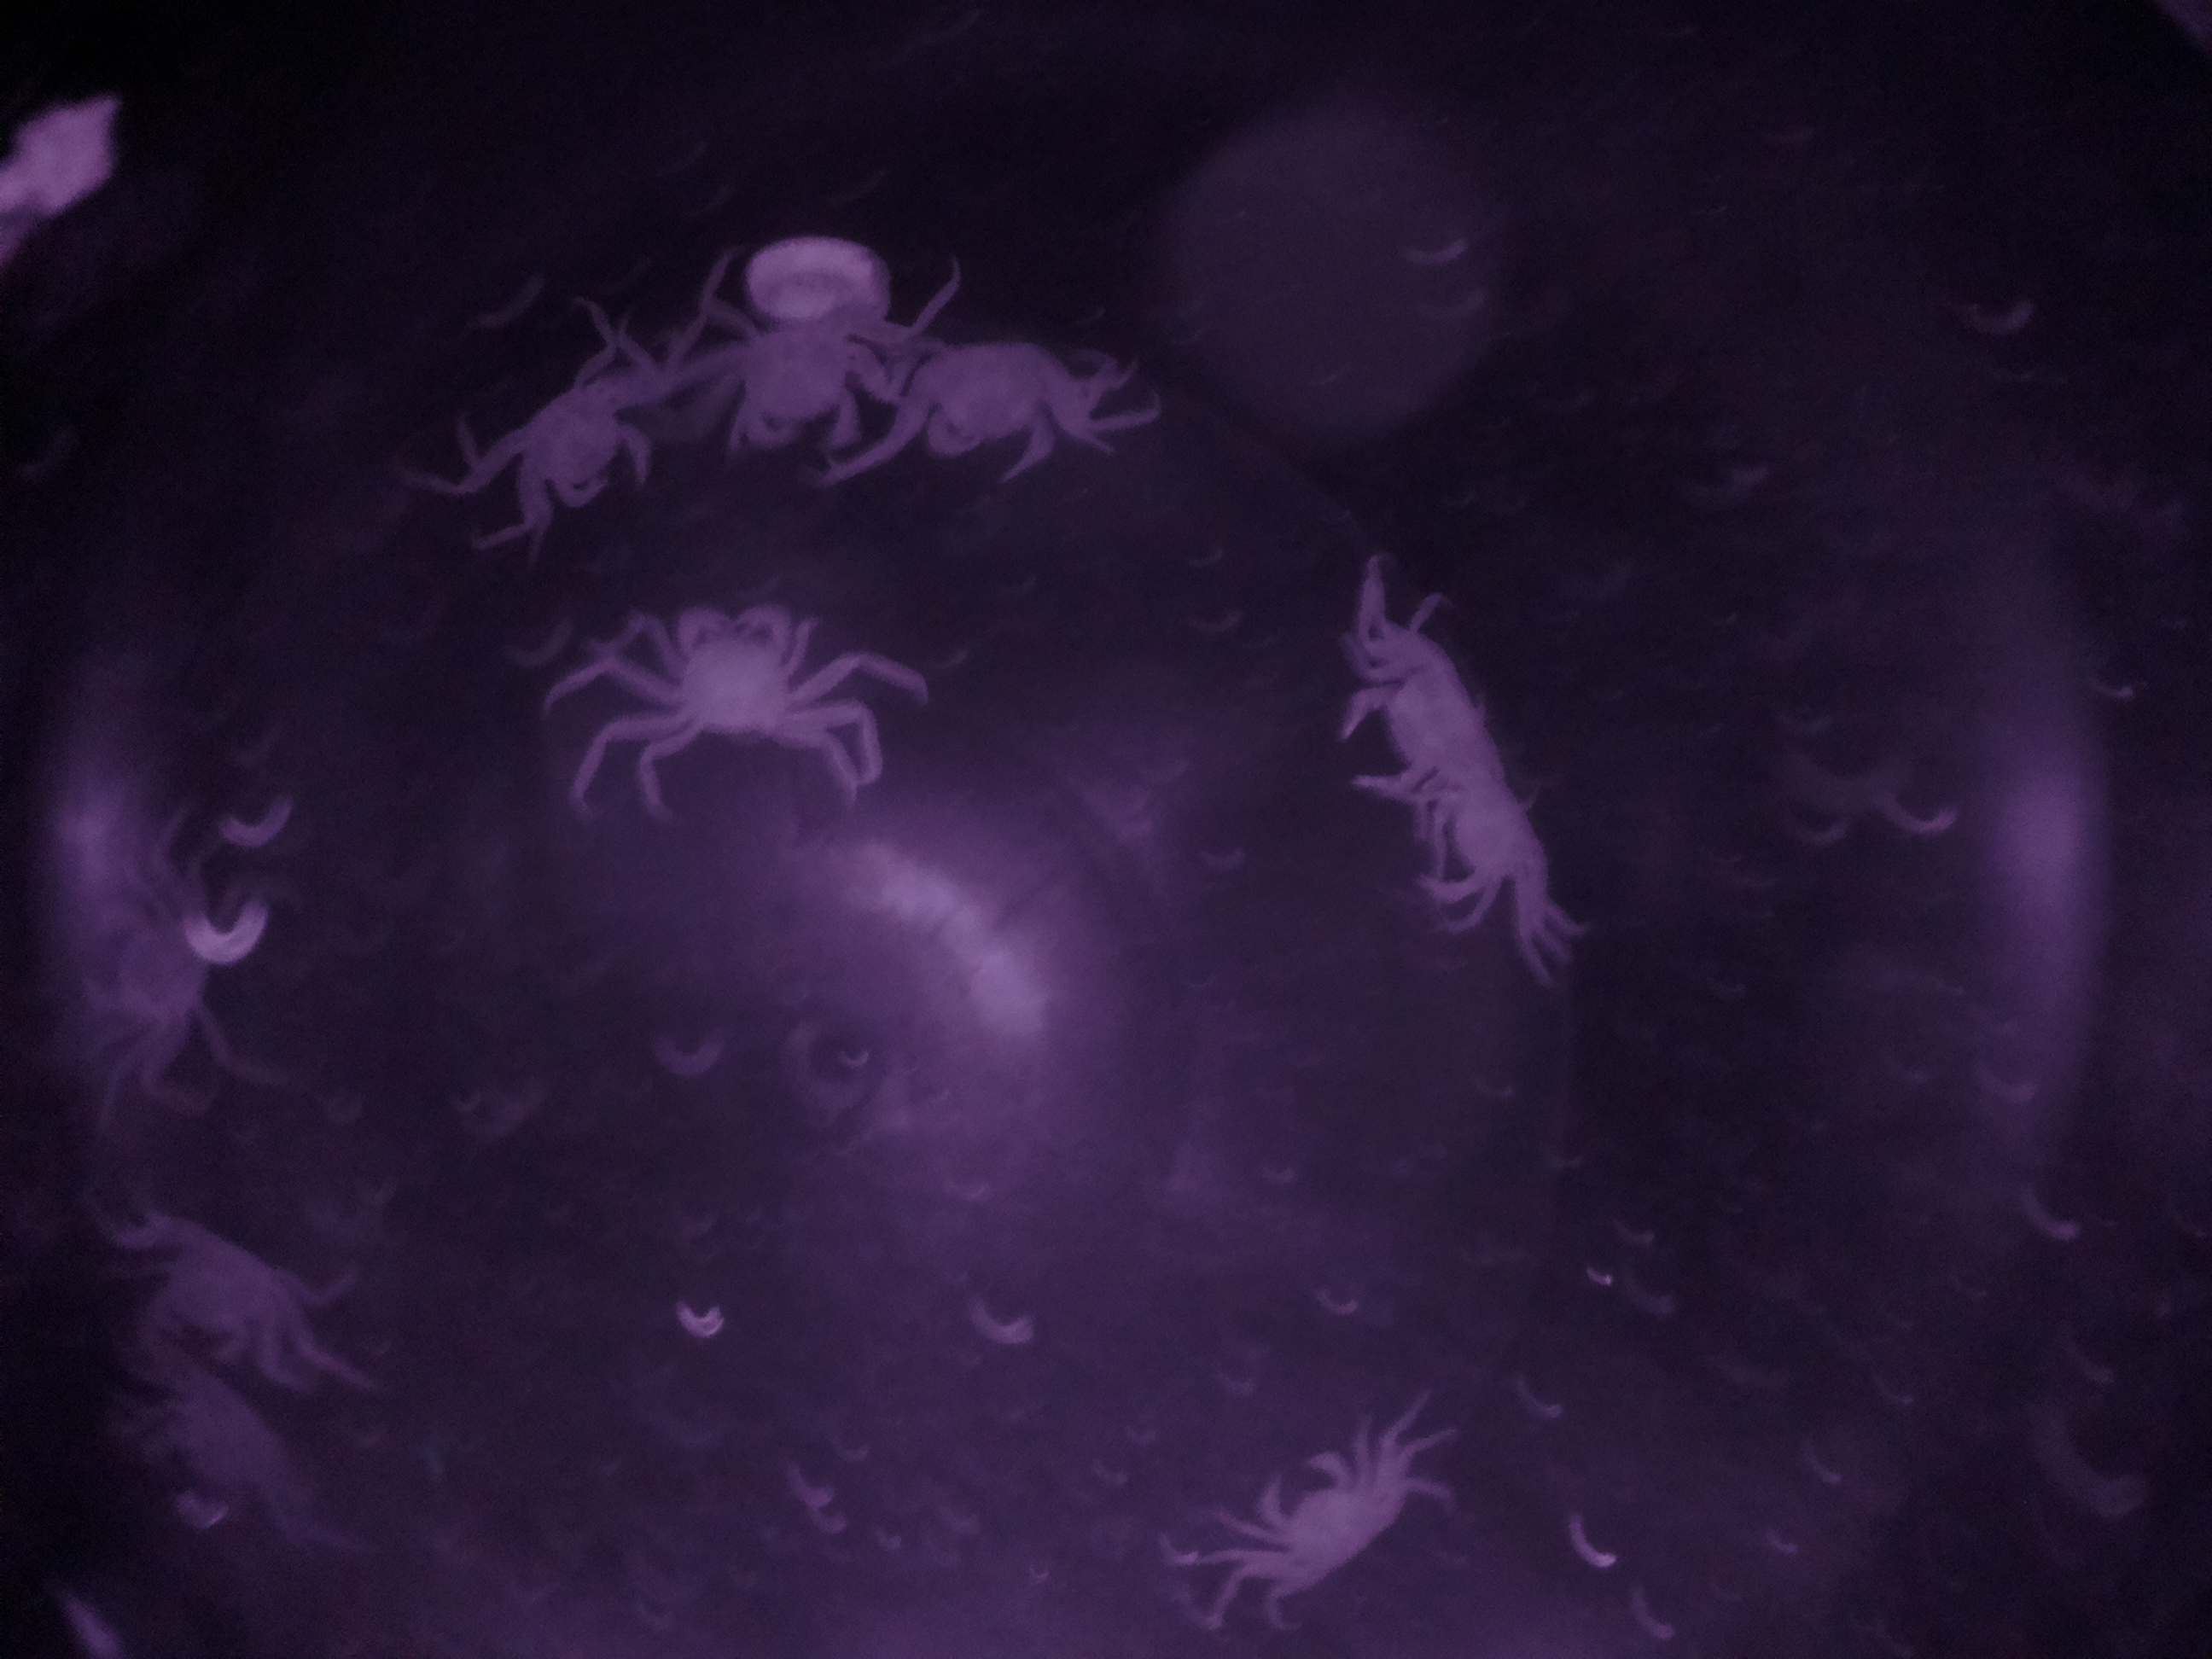Crab: (1214, 1410, 1413, 1615), (637, 582, 827, 767)
